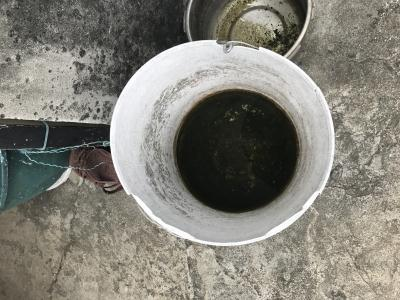bowl: (181, 1, 314, 59)
bucket: (108, 37, 337, 252)
